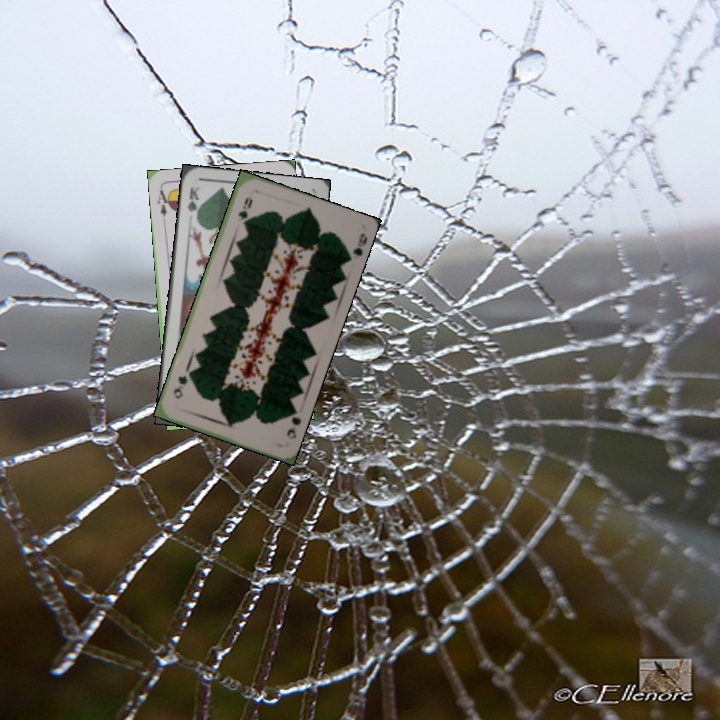EA: (153, 184, 173, 225)
G9: (282, 406, 304, 442), (234, 193, 255, 226)
GK: (182, 182, 202, 222)
